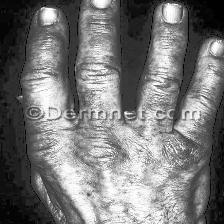Unclassified: (32, 131, 208, 169), (77, 36, 117, 96), (30, 28, 62, 90), (156, 49, 174, 101), (206, 72, 217, 114)
